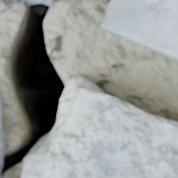brick: (22, 75, 177, 177), (101, 0, 177, 59), (0, 99, 4, 168), (13, 0, 52, 5)
crack: (0, 2, 66, 175)
